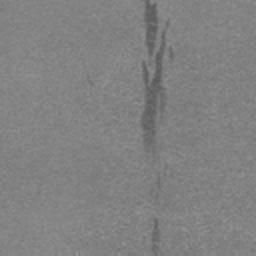Red iron sheet: (141, 0, 174, 155), (151, 218, 160, 256), (156, 177, 161, 189)
